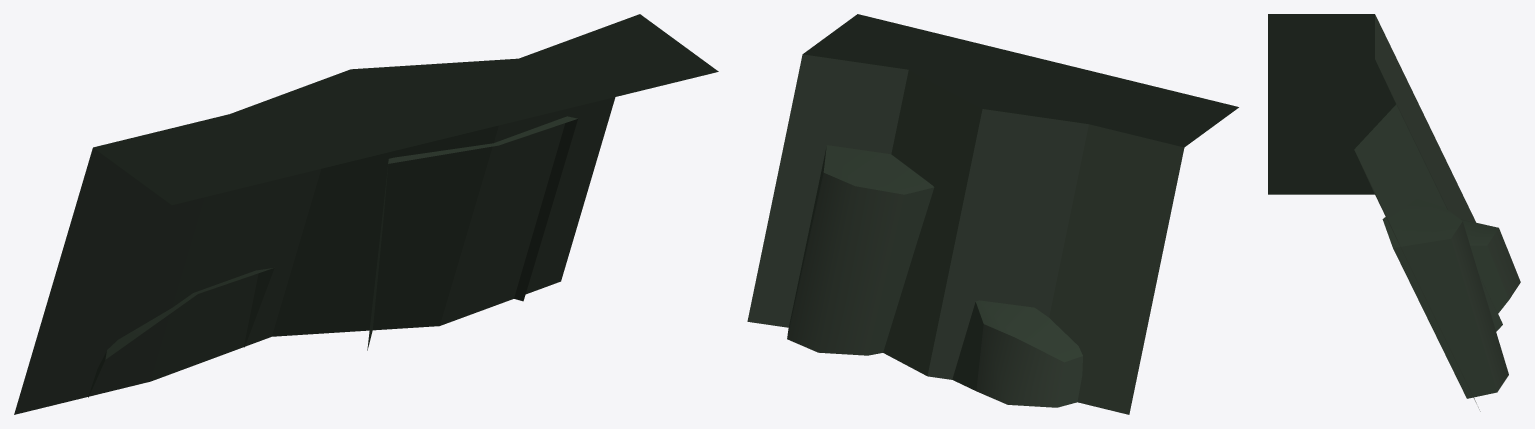
File: SF_Env_CliffEdge_Straight_01.glb
3 views of the same model, side by side, from view 1: azimuth 30°, elevation 25°; view 2: azimuth 150°, elevation 25°; view 3: azimuth 270°, elevation 25° (orthographic). The views are drawn at different scales.
Parts seen in each view (by area): view 1: SF_Env_CliffEdge_Straight_01; view 2: SF_Env_CliffEdge_Straight_01; view 3: SF_Env_CliffEdge_Straight_01.
Boxes of the visible parts, box(x1,y1,x2,y2) form: SF_Env_CliffEdge_Straight_01: box(14, 14, 718, 414); SF_Env_CliffEdge_Straight_01: box(747, 14, 1238, 414); SF_Env_CliffEdge_Straight_01: box(1268, 14, 1520, 411).
Size of the model in its own units: 0.1 by 0.0568 by 0.0591.
Materials: 1 (1 with a texture image).
